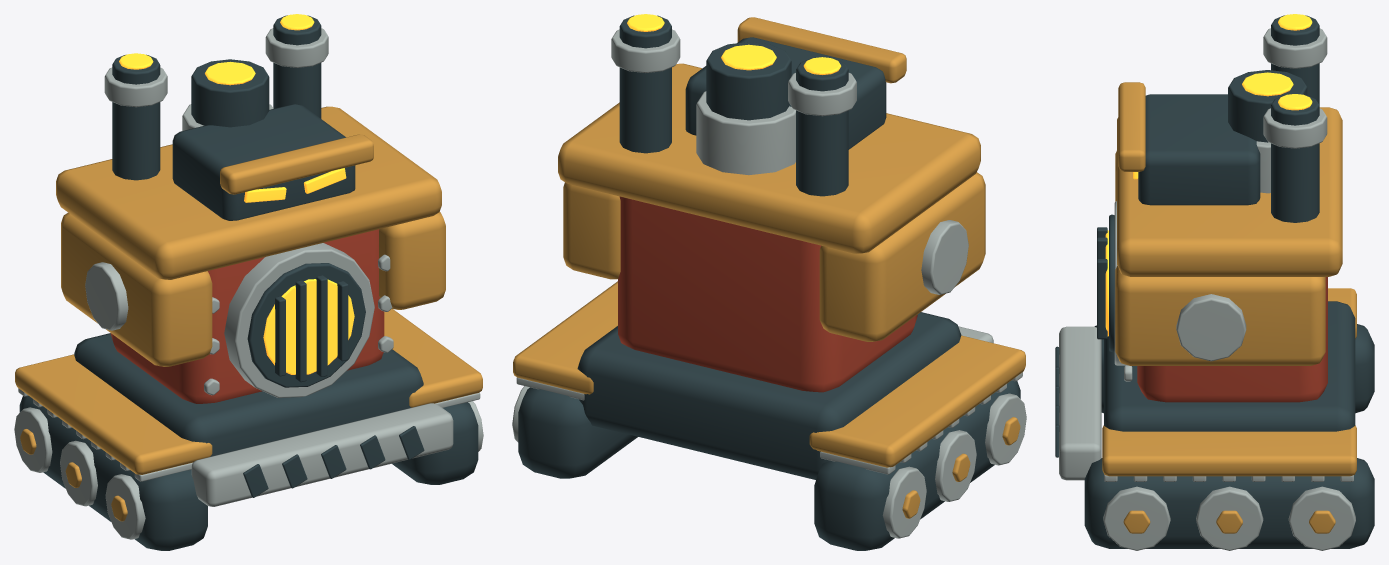
The model's file is enemy-boss.glb.
The picture shows the model from 3 angles, left to right: view 1: azimuth 30°, elevation 25°; view 2: azimuth 150°, elevation 25°; view 3: azimuth 270°, elevation 25°; orthographic projection. The views are drawn at different scales.
Visible parts, largest first — view 1: boss_armor, boss_dark, boss_steel, boss_red, boss_heat; view 2: boss_armor, boss_dark, boss_red, boss_steel, boss_heat; view 3: boss_armor, boss_dark, boss_steel, boss_red, boss_heat.
Boxes of the visible parts, x1,y1,x2,y2 form: boss_armor: (15, 106, 482, 521); boss_dark: (19, 15, 478, 550); boss_steel: (14, 28, 483, 539); boss_red: (110, 229, 384, 403); boss_heat: (119, 14, 354, 374); boss_armor: (513, 17, 1025, 518); boss_dark: (518, 15, 1020, 550); boss_red: (618, 196, 917, 392); boss_steel: (512, 29, 1026, 538); boss_heat: (627, 14, 841, 74); boss_armor: (1102, 82, 1356, 533); boss_dark: (1055, 15, 1374, 548); boss_steel: (1059, 28, 1355, 550); boss_red: (1137, 277, 1327, 402); boss_heat: (1105, 14, 1312, 336).
Size of the model in its own units: 2.74 by 3 by 2.09.
